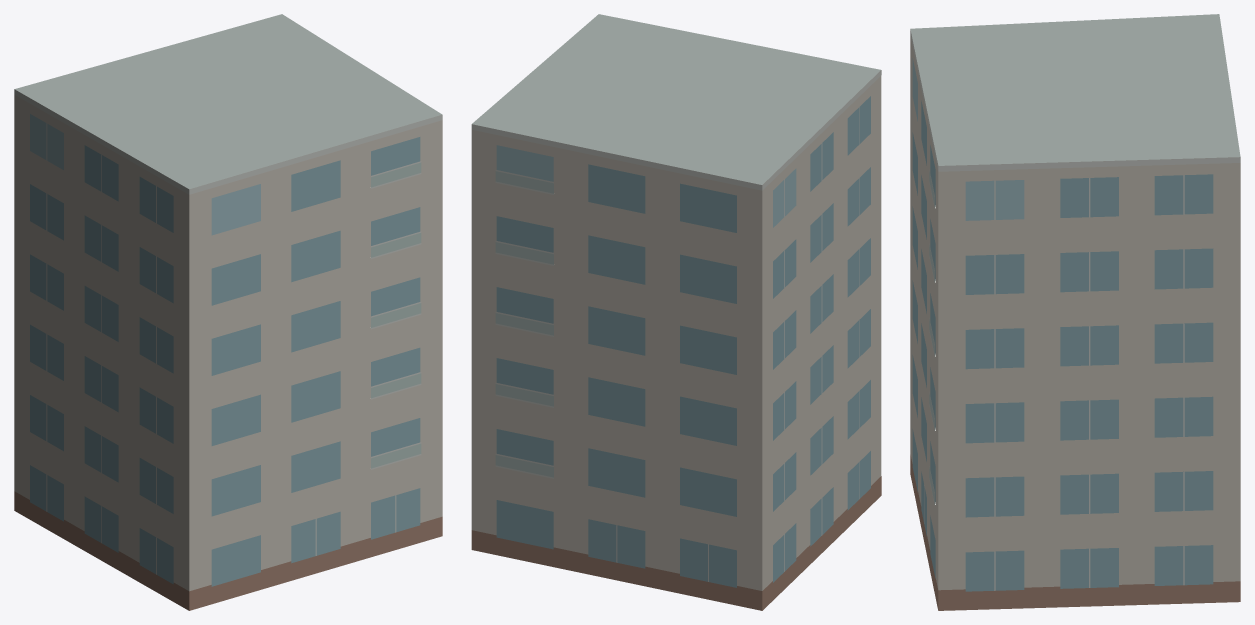
Rendered from survey-upis-33011820.glb.
3 views of the same model, side by side, from view 1: azimuth 30°, elevation 25°; view 2: azimuth 150°, elevation 25°; view 3: azimuth 270°, elevation 25° (orthographic). The views are drawn at different scales.
Visible parts, largest first — view 1: survey-upis-33011820.tmp; view 2: survey-upis-33011820.tmp; view 3: survey-upis-33011820.tmp.
Part boxes in pixels (x1=…): survey-upis-33011820.tmp: x1=14, y1=14, x2=442, y2=610; survey-upis-33011820.tmp: x1=471, y1=14, x2=881, y2=610; survey-upis-33011820.tmp: x1=910, y1=14, x2=1240, y2=610.
Size of the model in its own units: 13.71 by 18.7 by 12.59.
